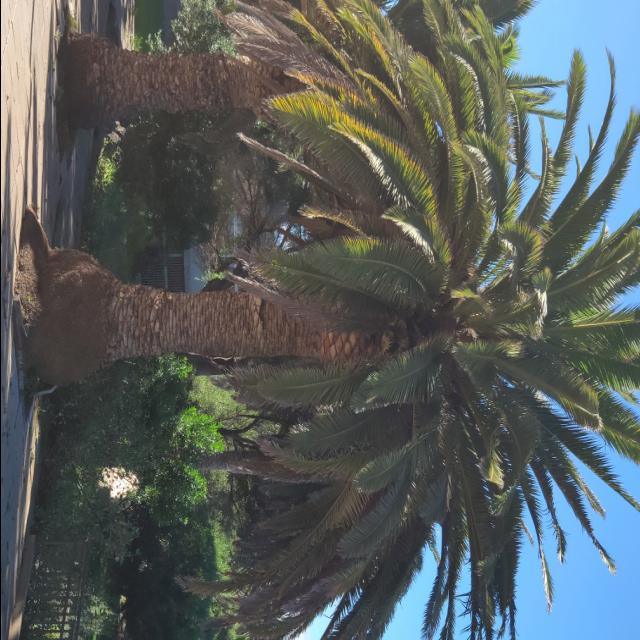Palm-Trees: (20, 76, 640, 604)
